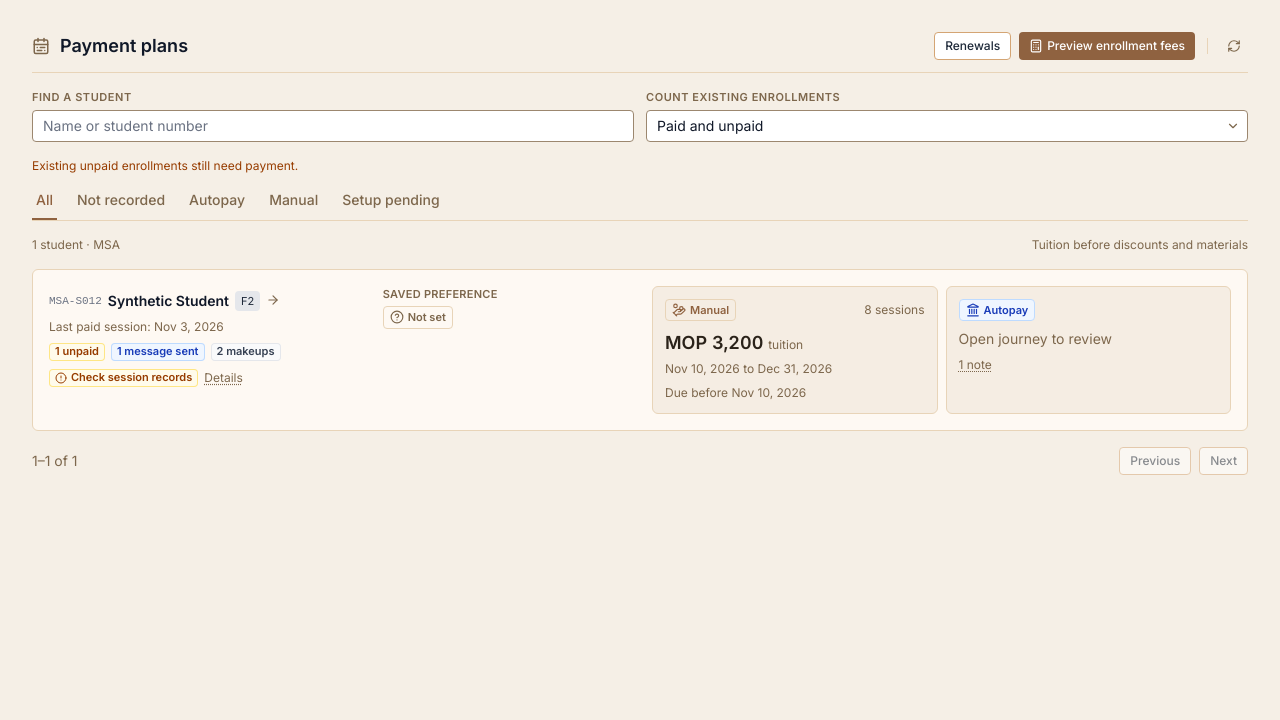
billing source review › keeps full check explanations collapsed and attaches setup notes to autopay only
Expected: the text "Check session records" is shown, left=49, top=369, right=198, bottom=387
Expected: the text "Synthetic enrollment 101 is missing original session records." is not shown
Click the heading "1 notes?" at x=975, y=364, box left=958, top=357, right=992, bottom=372
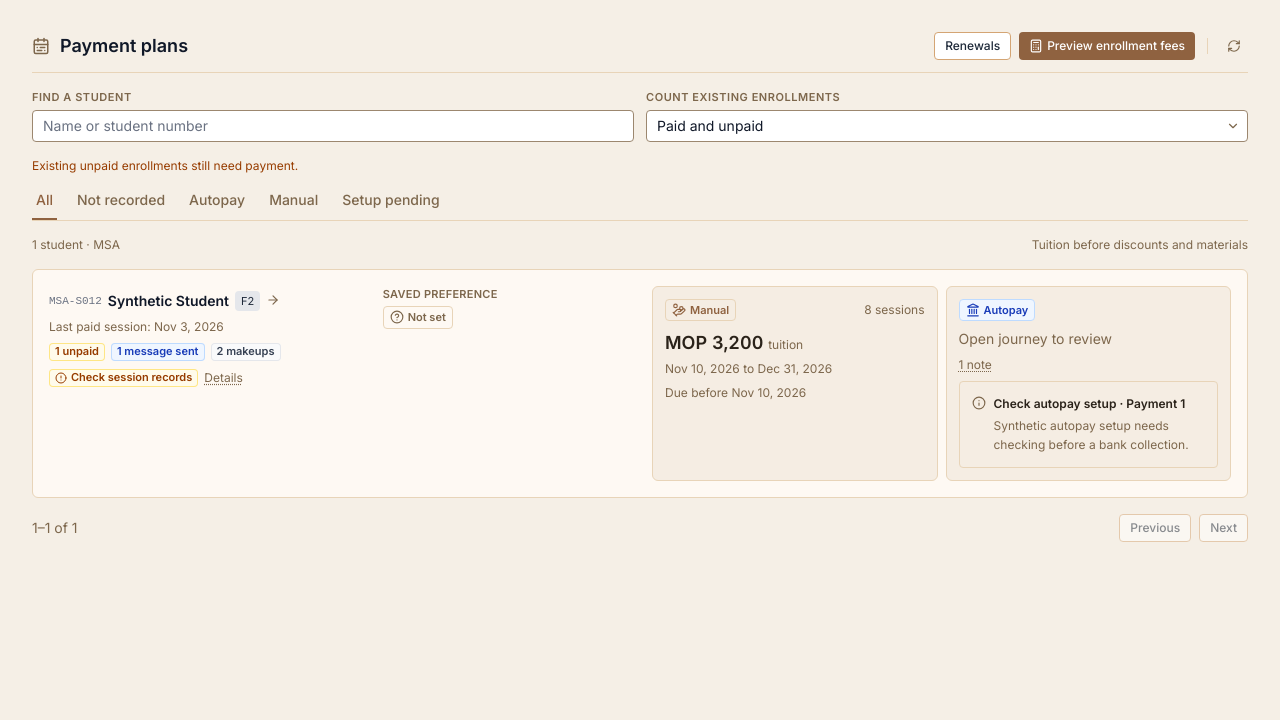
Result: the text "Check autopay setup · Payment 1" is shown at left=994, top=396, right=1185, bottom=411
Click the heading "Check session records Details" at x=146, y=378, box left=49, top=369, right=243, bottom=387
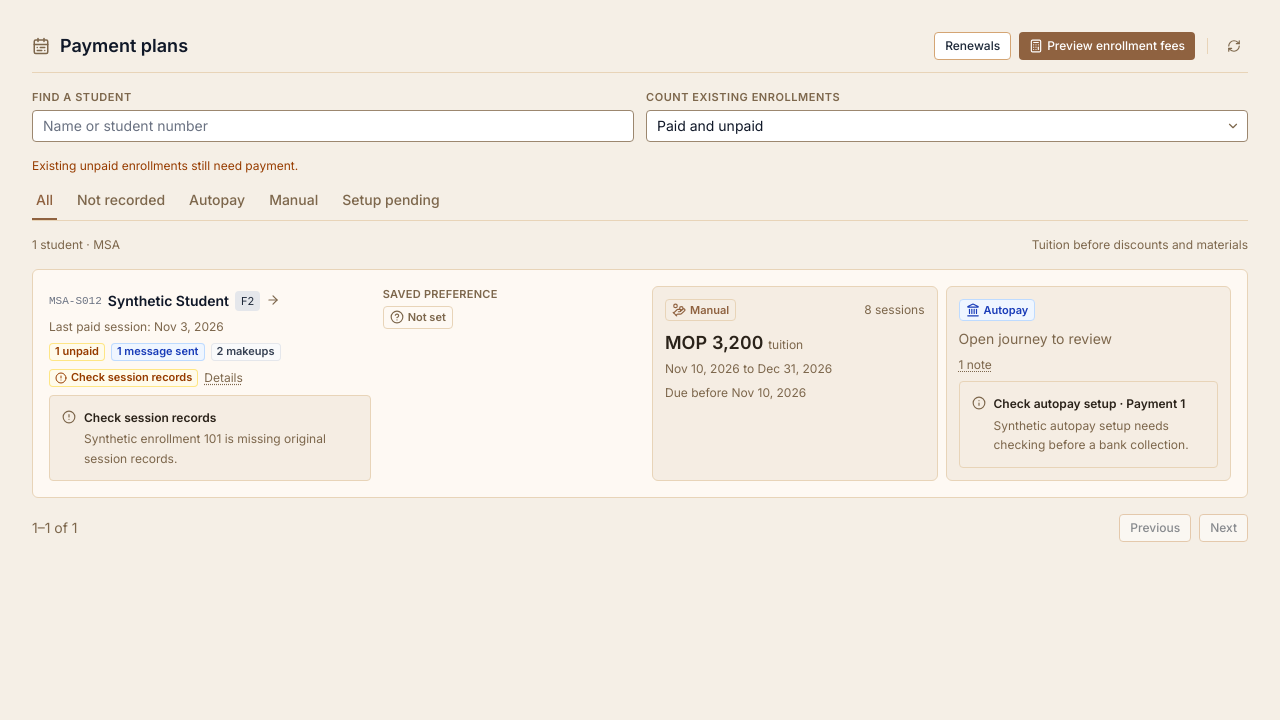
Result: the text "Synthetic enrollment 101 is missing original session records." is shown at left=84, top=429, right=358, bottom=468
